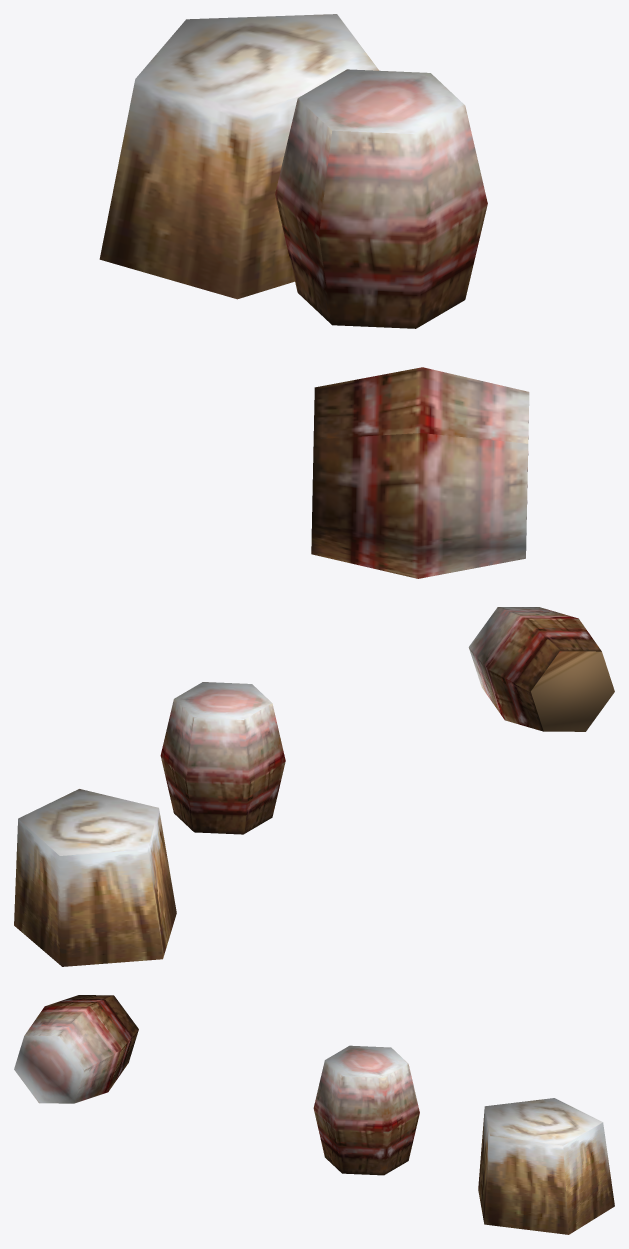
Rendered from SM_Enclosure_06.fbx.
3 renders of one model, top to bottom at view 1: azimuth 30°, elevation 25°; view 2: azimuth 150°, elevation 25°; view 3: azimuth 270°, elevation 25°, orthographic. The views are drawn at different scales.
Visible parts, largest first — view 1: SM_Enclosure_06; view 2: SM_Enclosure_06; view 3: SM_Enclosure_06.
Boxes of the visible parts, <box> form: SM_Enclosure_06: <box>99,14,529,578</box>; SM_Enclosure_06: <box>14,607,614,966</box>; SM_Enclosure_06: <box>14,995,614,1234</box>.
Bounding box in the file's own units: 2.11 × 1.07 × 4.21.
